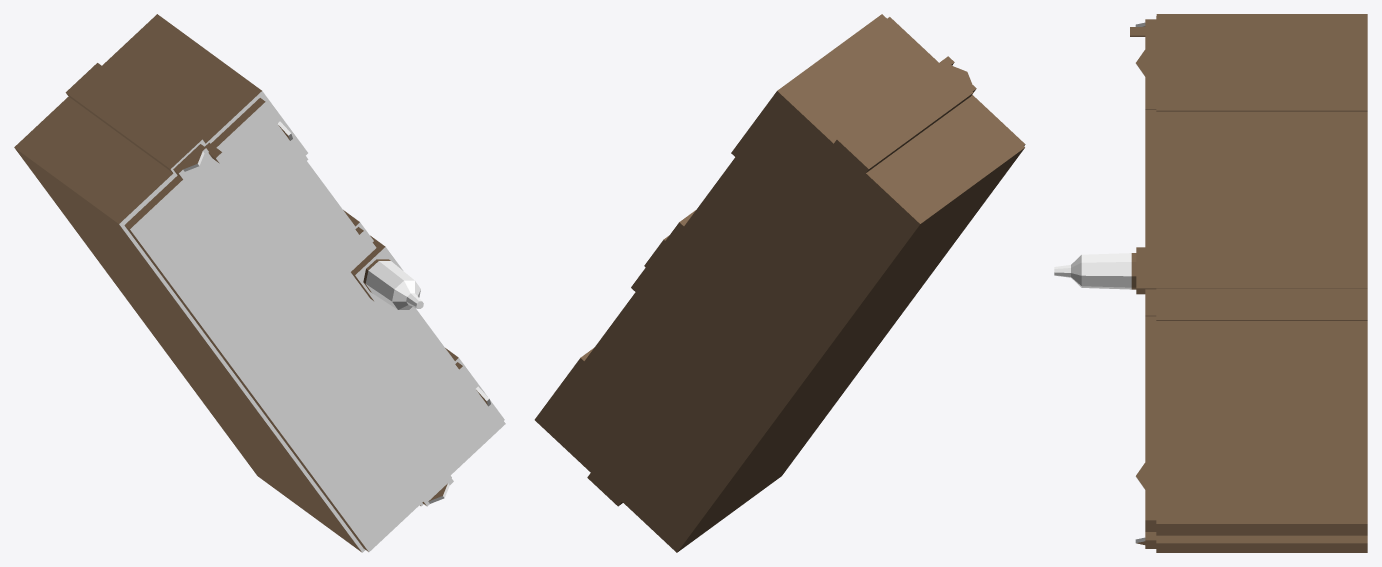
3 views of the same model, side by side, from view 1: azimuth 30°, elevation 25°; view 2: azimuth 150°, elevation 25°; view 3: azimuth 270°, elevation 25° (orthographic).
Parts seen in each view (by area): view 1: City_2316882; view 2: City_2316882; view 3: City_2316882.
Boxes of the visible parts, bbox=[...] form: City_2316882: bbox=[14, 14, 505, 552]; City_2316882: bbox=[534, 14, 1025, 552]; City_2316882: bbox=[1054, 14, 1367, 552].
Size of the model in its own units: 4721 by 5688 by 3300.
